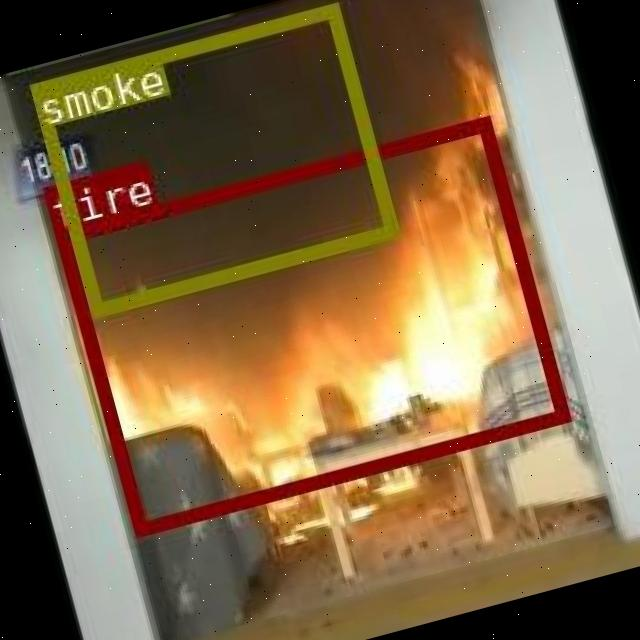fire: (52, 114, 568, 534)
smoke: (28, 2, 395, 316)
